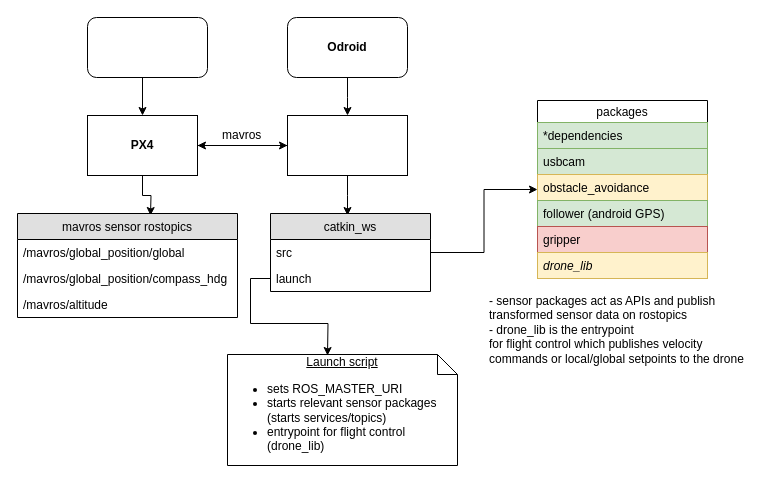
Some shapes in this 775 by 483 pixel diagram are drawn without their labels. Each missing label, with the centre of its shape:
Pixhawk: (x=147, y=47)
ROS Master: (x=347, y=145)
